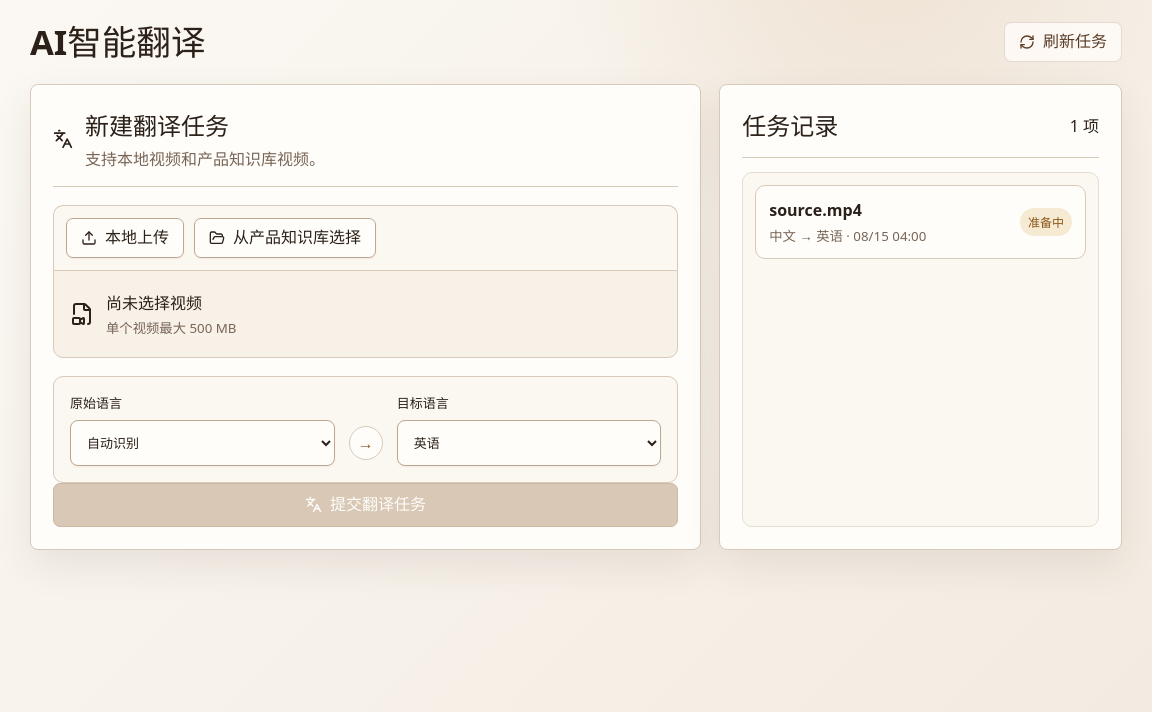
Test: AiTranslationPage customer language › presents translation as a customer product without internal staffing language
The image size is (1152, 712).
Check: the heading "AI智能翻译" is shown, box [30,21,206,63]
Check: the text "处理中" is not shown
Click the button "source.mp4 中文 → 英语 · 08/15 04:00 准备中".
click(816, 210)  # box [755,185,1086,259]
(page scrolled)
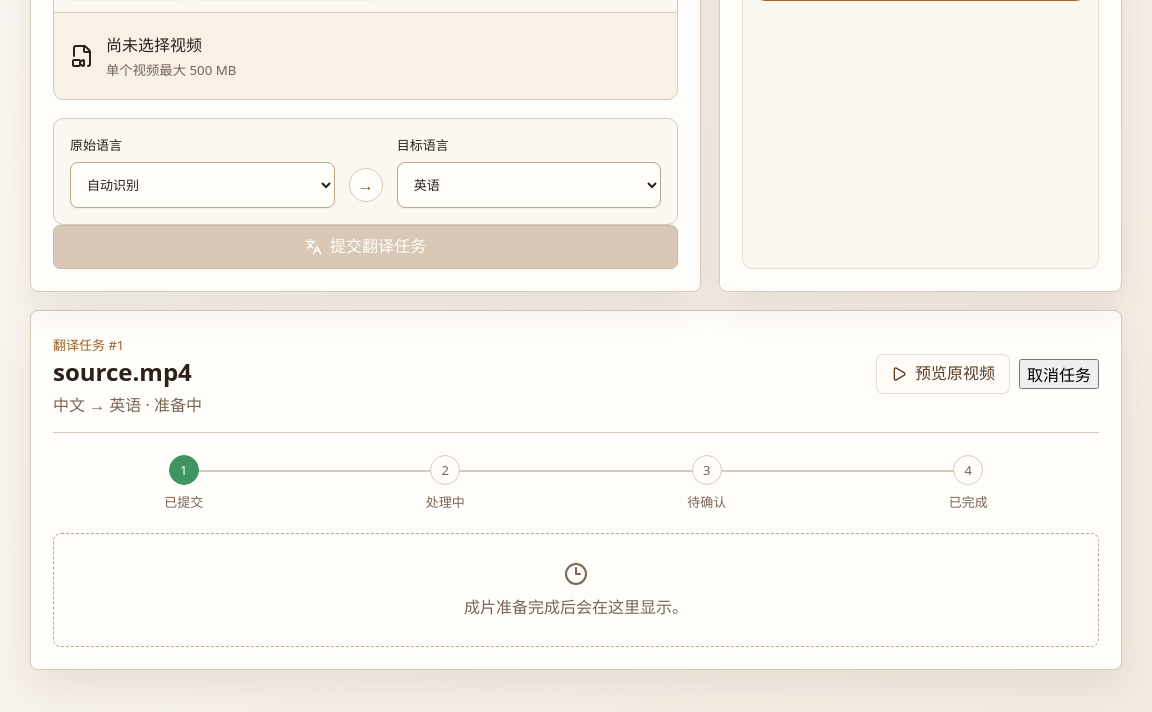
Check: the text "翻译任务 #1" is shown, box [53,336,124,354]
Check: the text "处理中" is shown, box [426,492,465,511]
